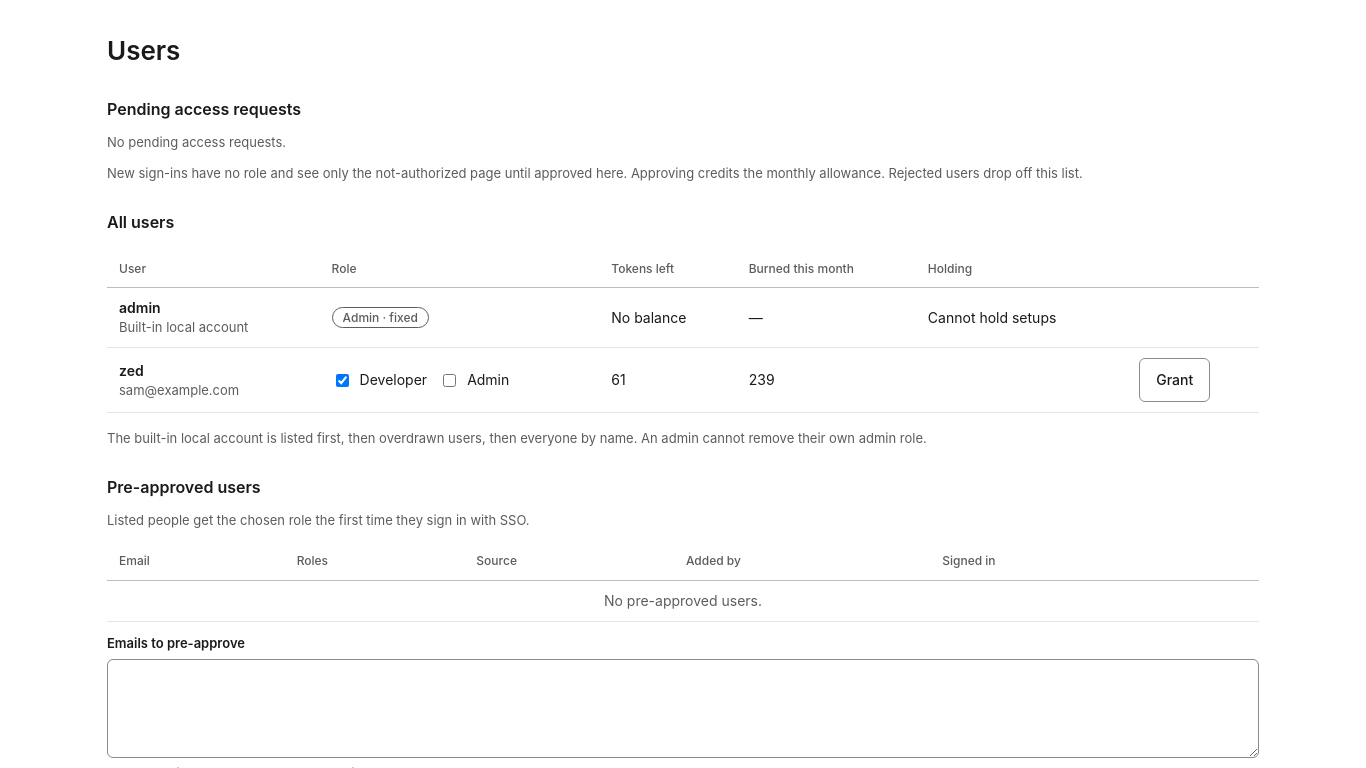
A1 P9 the row actions and texts use the display name › Grant, Save roles, the panel heading, the toast and the reset dialog name the person
Click the button with aria-label "Grant to zed" at (1175, 380), box [1139,358,1210,402]
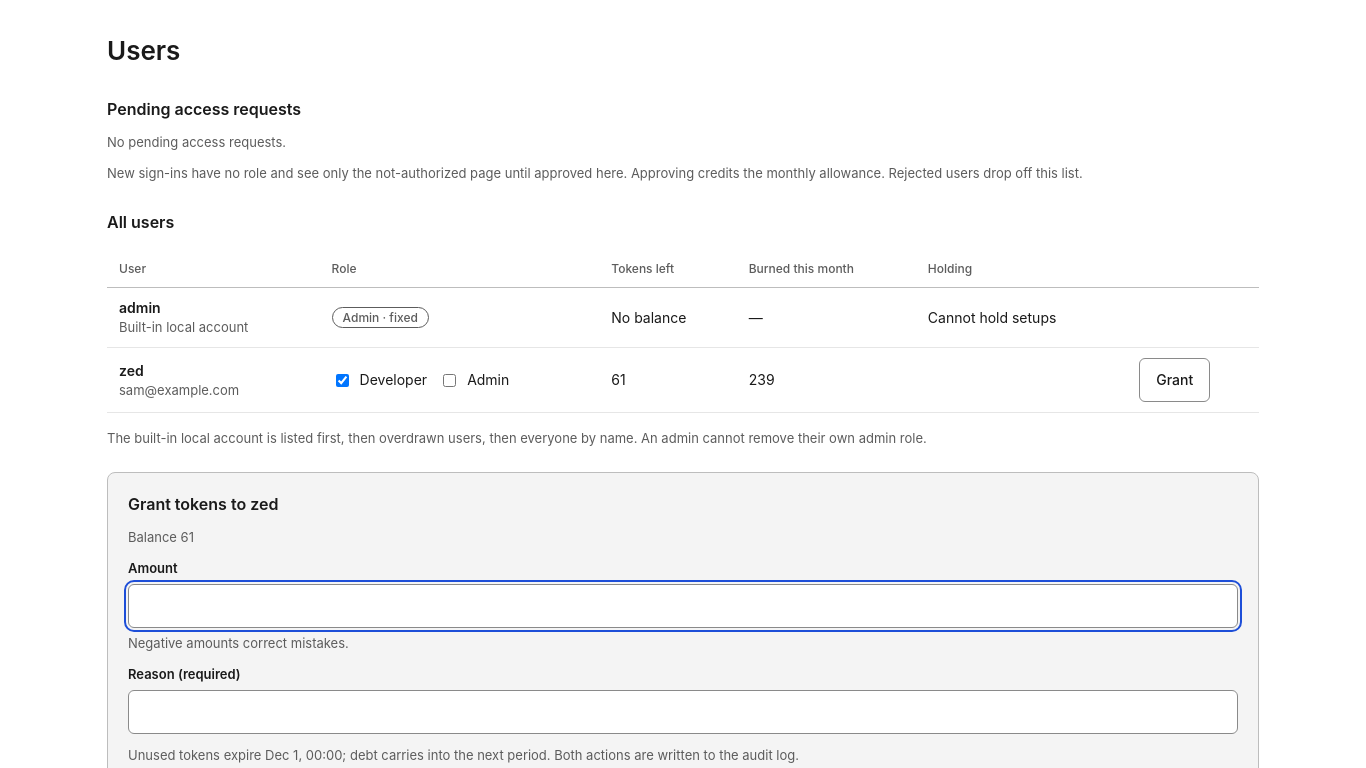
Expected: the element named "Roles for zed" is shown, [336,371,509,388]
Result: the heading "Grant tokens to zed" is shown at [128,494,278,514]
Click the checkbox labelled "Admin" at (450, 380), box [443,374,456,387]
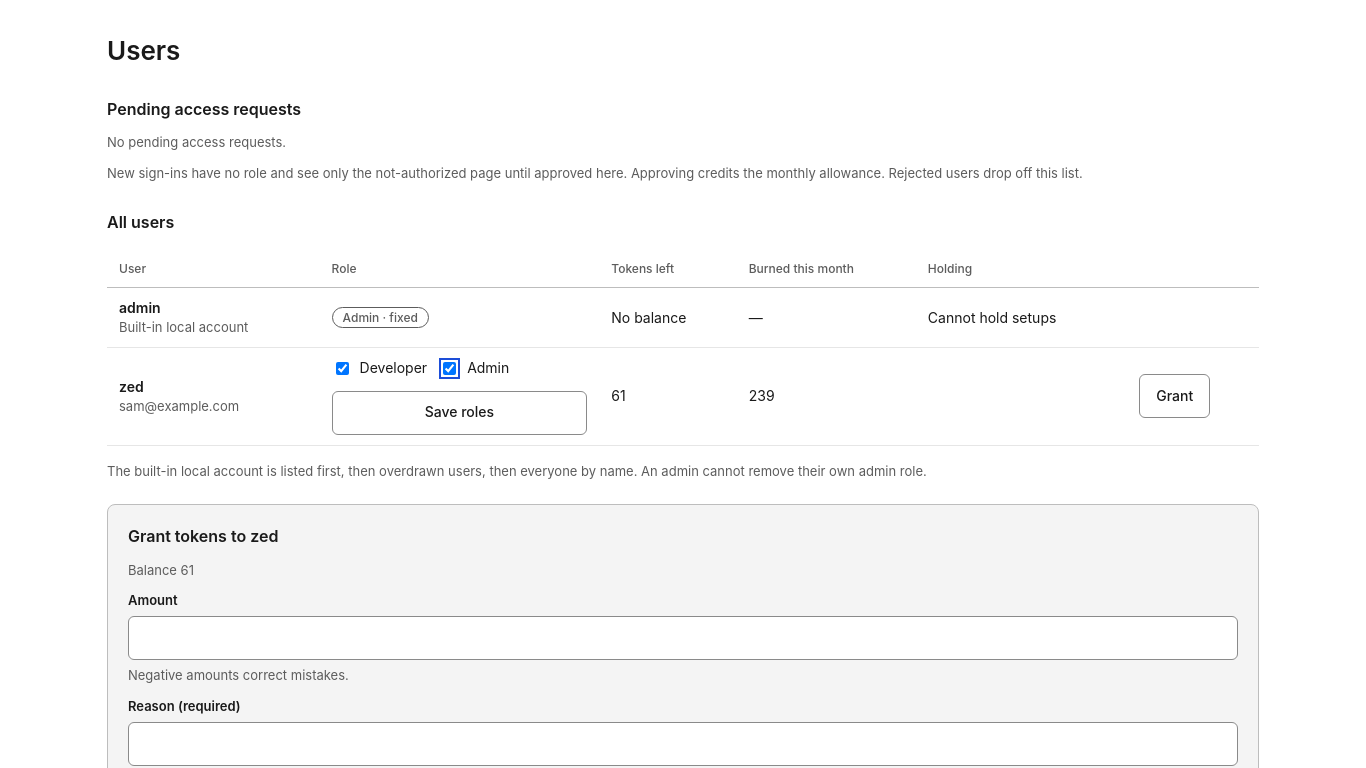
Result: the button with aria-label "Save roles for zed" is shown at [332,391,587,435]
Type "fix" into the field labelled "Reason (required)" at (683, 744), box [128,722,1238,766]
(page scrolled)
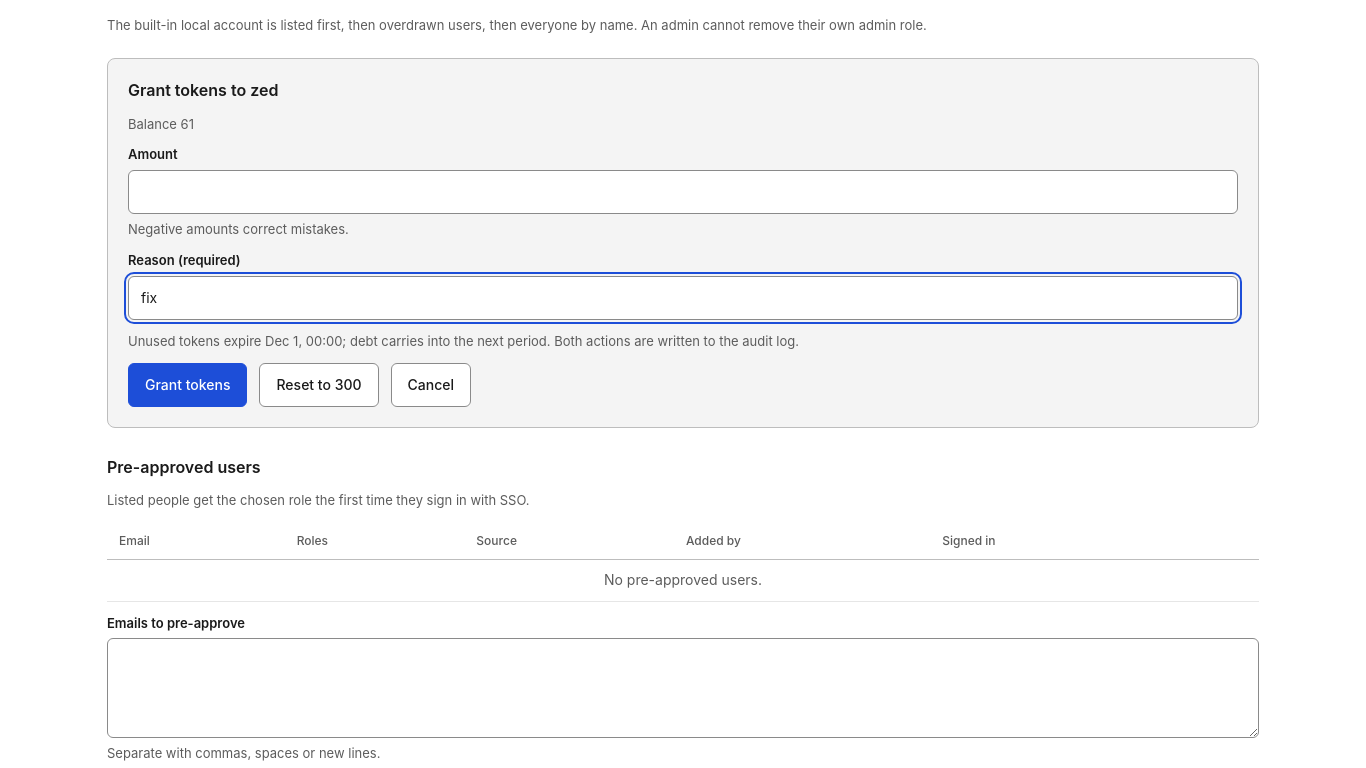
Click the button "Reset to 300" at (319, 385), box [260,363,378,407]
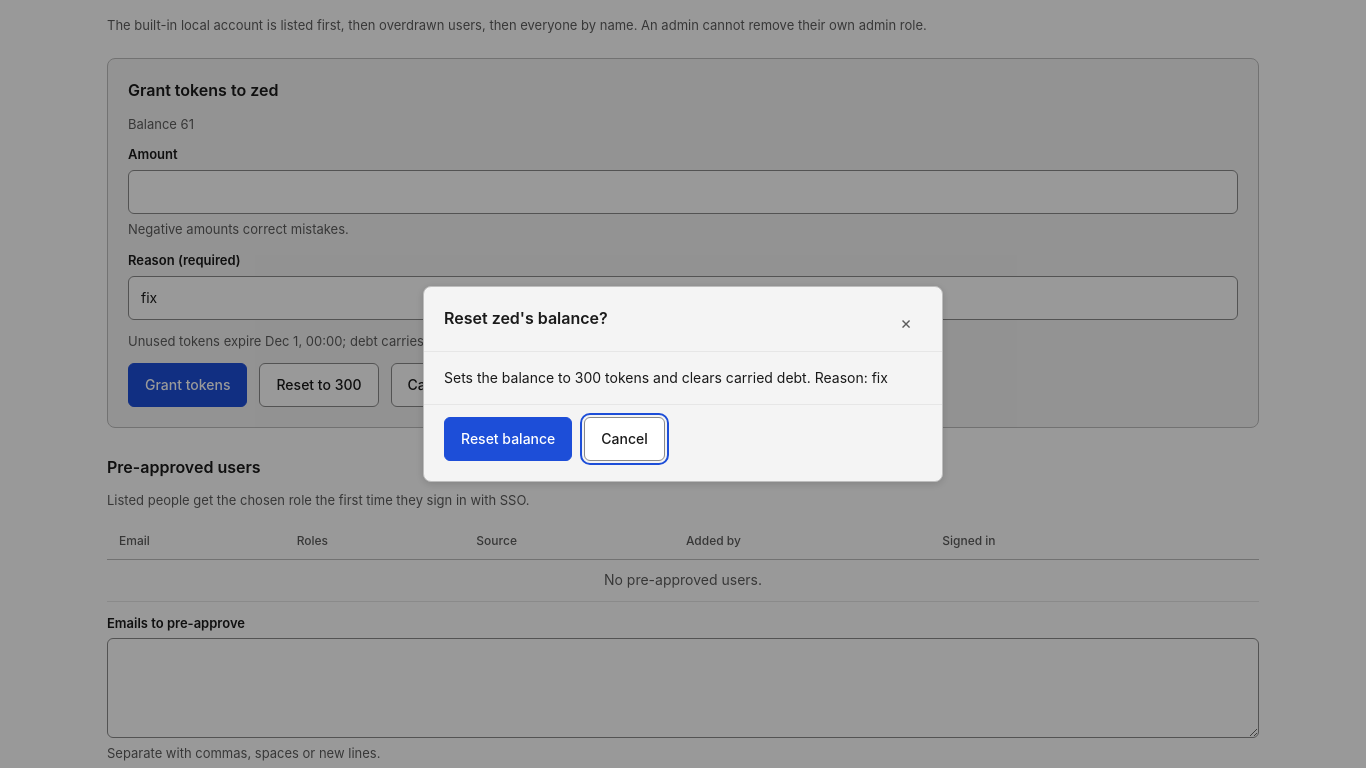
Result: the dialog "Reset zed's balance?" is shown at [423,286,943,482]
